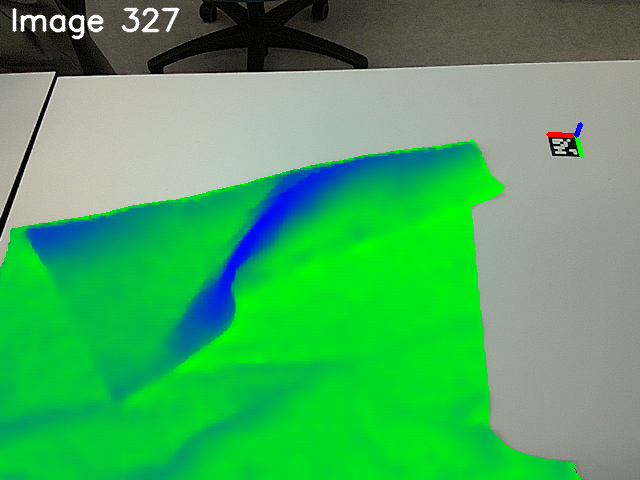V: (82, 349, 154, 413)
